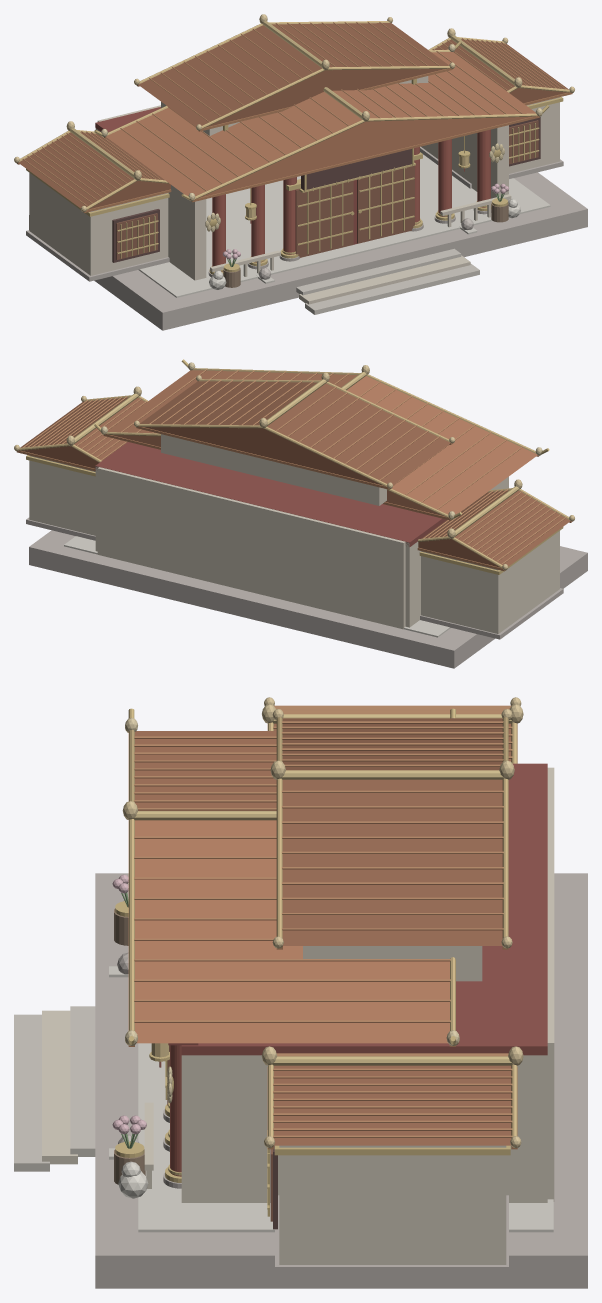
File: dien-quan-am-3d.glb
The picture shows the model from 3 angles, top to bottom: view 1: azimuth 30°, elevation 25°; view 2: azimuth 150°, elevation 25°; view 3: azimuth 270°, elevation 25°; orthographic projection. The views are drawn at different scales.
Visible parts, largest first — view 1: Material_17_73351f, Material_10_aa4e2d, Material_03_f2dfbd, Material_00_b9aaa0, Material_01_f1e9d6, Material_07_653222, Material_14_c66a3a, Material_05_ddae55, Material_08_8b3026, Material_11_e2ac58, Material_02_ddd2c0, Material_06_321d1b (+6 smaller); view 2: Material_03_f2dfbd, Material_17_73351f, Material_00_b9aaa0, Material_10_aa4e2d, Material_04_67221d, Material_14_c66a3a, Material_11_e2ac58, Material_12_a9552d, Material_13_e5b861, Material_05_ddae55, Material_01_f1e9d6, Material_16_f2c577; view 3: Material_17_73351f, Material_03_f2dfbd, Material_10_aa4e2d, Material_00_b9aaa0, Material_14_c66a3a, Material_04_67221d, Material_01_f1e9d6, Material_02_ddd2c0, Material_13_e5b861, Material_11_e2ac58, Material_05_ddae55, Material_16_f2c577 (+3 smaller).
Boxes of the visible parts, bbox=[...] form: Material_17_73351f: bbox=[18, 23, 568, 209]; Material_10_aa4e2d: bbox=[106, 52, 535, 197]; Material_03_f2dfbd: bbox=[29, 76, 559, 304]; Material_00_b9aaa0: bbox=[26, 146, 587, 330]; Material_01_f1e9d6: bbox=[138, 154, 550, 297]; Material_07_653222: bbox=[116, 120, 538, 259]; Material_14_c66a3a: bbox=[22, 21, 565, 206]; Material_05_ddae55: bbox=[26, 41, 563, 274]; Material_08_8b3026: bbox=[212, 129, 490, 271]; Material_11_e2ac58: bbox=[19, 21, 570, 209]; Material_02_ddd2c0: bbox=[296, 248, 479, 314]; Material_06_321d1b: bbox=[112, 116, 540, 262]; Material_03_f2dfbd: bbox=[29, 434, 559, 633]; Material_17_73351f: bbox=[20, 381, 570, 567]; Material_00_b9aaa0: bbox=[26, 517, 587, 668]; Material_10_aa4e2d: bbox=[107, 370, 537, 515]; Material_04_67221d: bbox=[95, 442, 446, 546]; Material_14_c66a3a: bbox=[23, 369, 566, 564]; Material_11_e2ac58: bbox=[19, 368, 569, 568]; Material_12_a9552d: bbox=[16, 381, 572, 571]; Material_13_e5b861: bbox=[74, 372, 519, 536]; Material_05_ddae55: bbox=[26, 359, 563, 574]; Material_01_f1e9d6: bbox=[64, 536, 450, 637]; Material_16_f2c577: bbox=[66, 365, 522, 538]; Material_17_73351f: bbox=[274, 718, 511, 1145]; Material_03_f2dfbd: bbox=[42, 767, 554, 1264]; Material_10_aa4e2d: bbox=[135, 731, 449, 1043]; Material_00_b9aaa0: bbox=[95, 873, 587, 1288]; Material_14_c66a3a: bbox=[134, 705, 512, 1137]; Material_04_67221d: bbox=[168, 763, 547, 1055]; Material_01_f1e9d6: bbox=[109, 898, 553, 1232]; Material_02_ddd2c0: bbox=[14, 1006, 95, 1171]; Material_13_e5b861: bbox=[134, 714, 512, 1065]; Material_11_e2ac58: bbox=[129, 717, 517, 1138]; Material_05_ddae55: bbox=[115, 708, 510, 1216]; Material_16_f2c577: bbox=[122, 704, 523, 1065].
Bounding box in the file's own units: 29.82 × 10.56 × 16.31.
